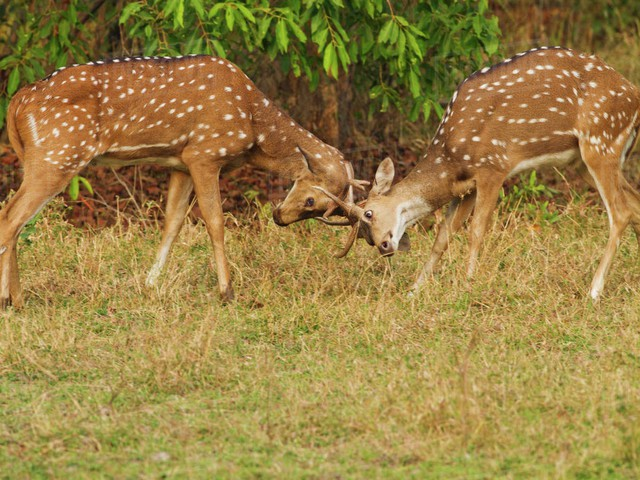deer: (1, 52, 349, 306), (363, 37, 640, 296)
